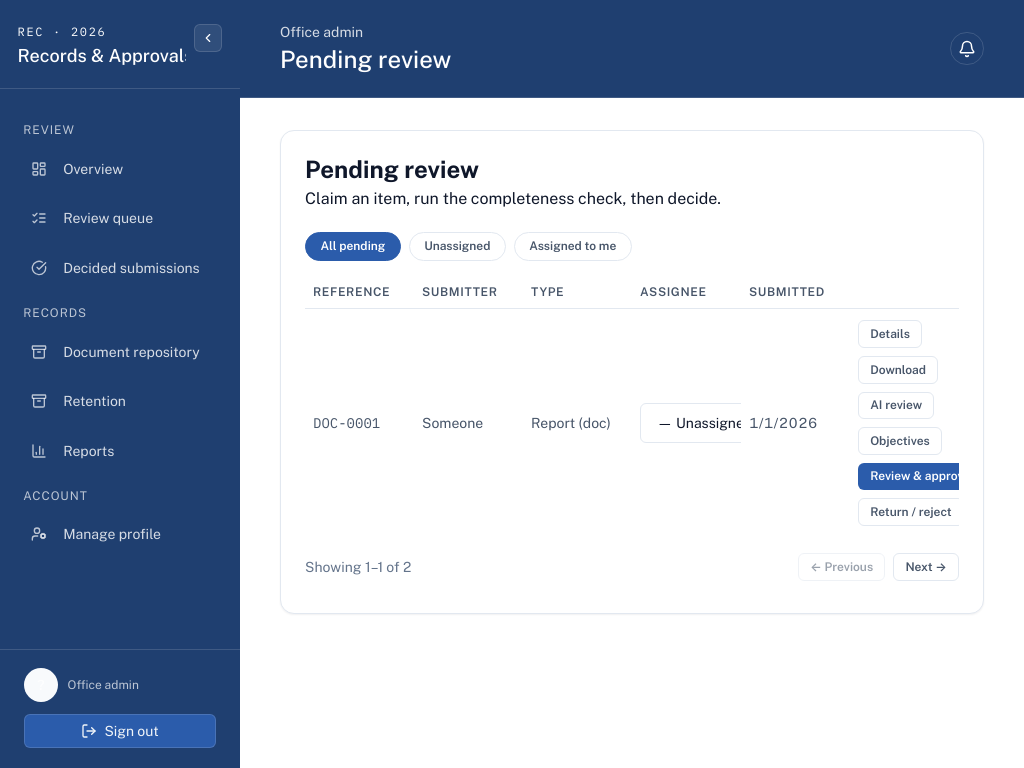
ReviewQueue scope tabs › resets the page back to 1 when switching scope tabs
The width and height of the screenshot is (1024, 768).
Expected: the text "DOC-0001" is shown, [305, 309, 414, 537]
Go to page 2 of "All pending".
What coordinates should you click on to do the following:
click the button "Next →"
I would click on:
 (926, 567)
Its box is [893, 553, 959, 581].
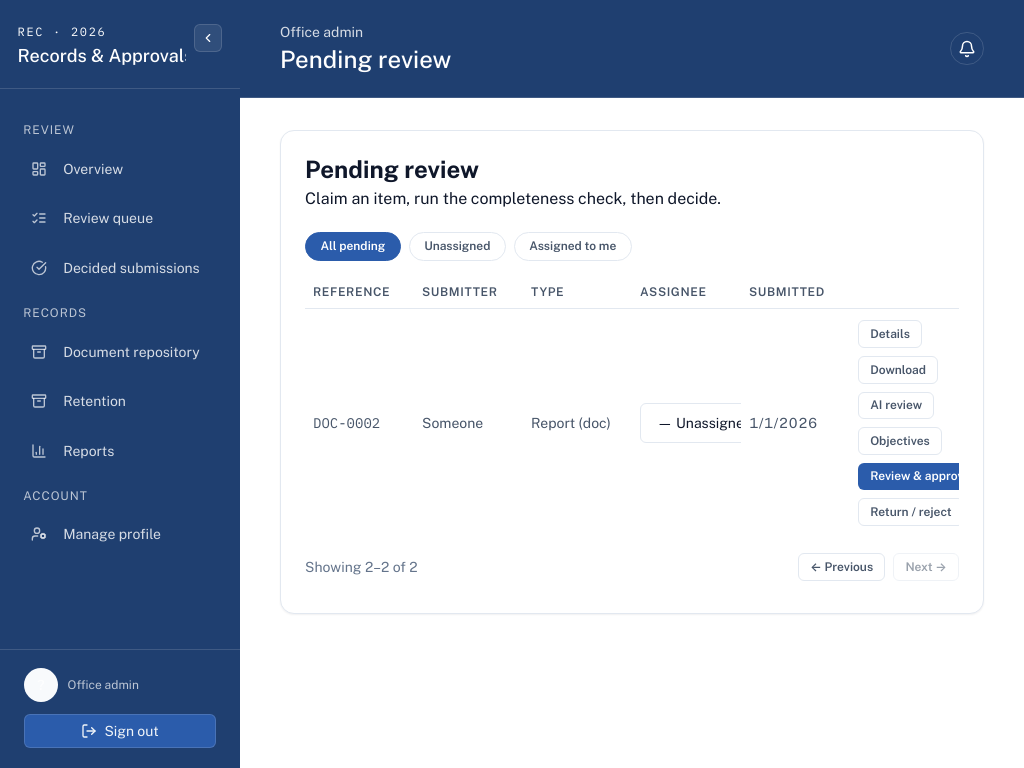
Expected: the text "DOC-0002" is shown, [305, 309, 414, 537]
What coordinates should you click on to do the following:
click the button "Assigned to me"
I would click on:
 (573, 246)
Its box is [514, 232, 632, 261].
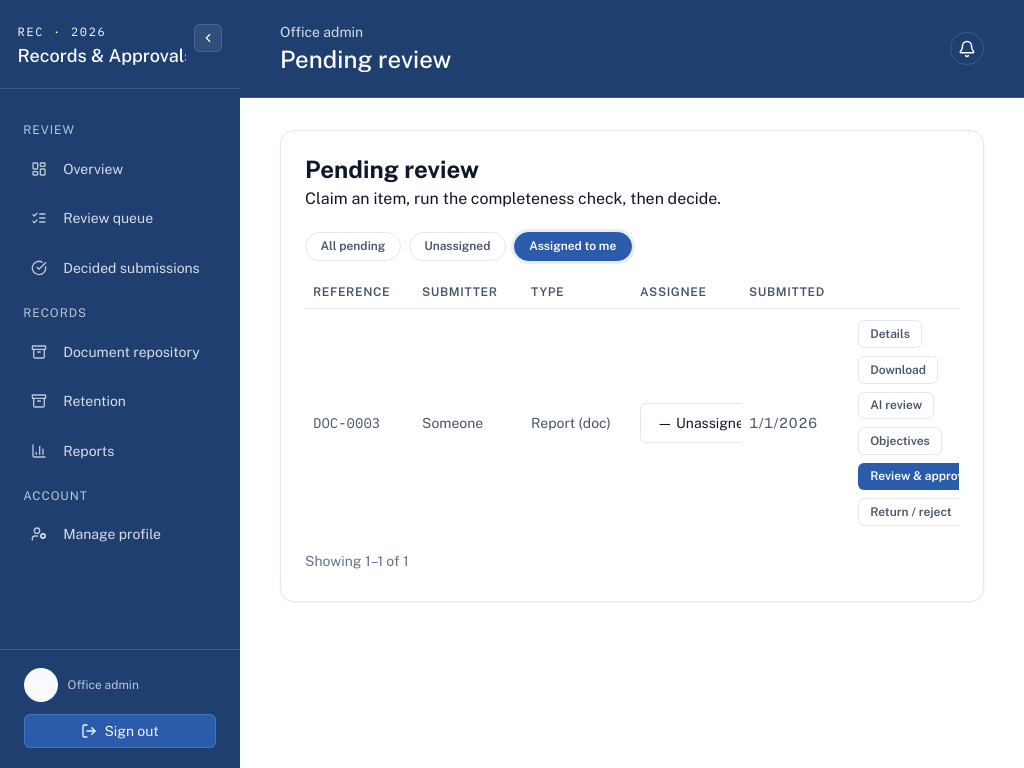
Expected: the text "DOC-0003" is shown, [305, 309, 414, 537]
